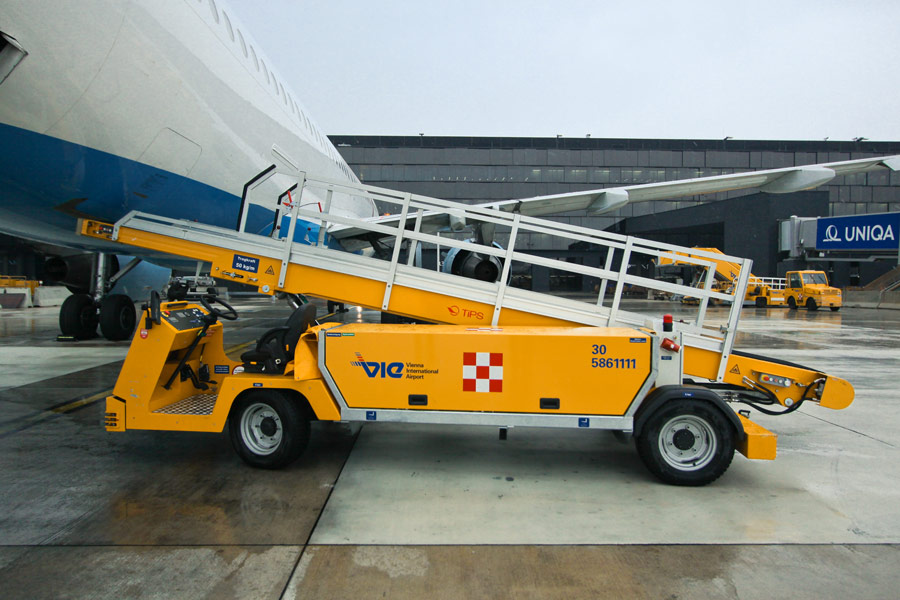baggageTruck: (94, 141, 865, 496)
